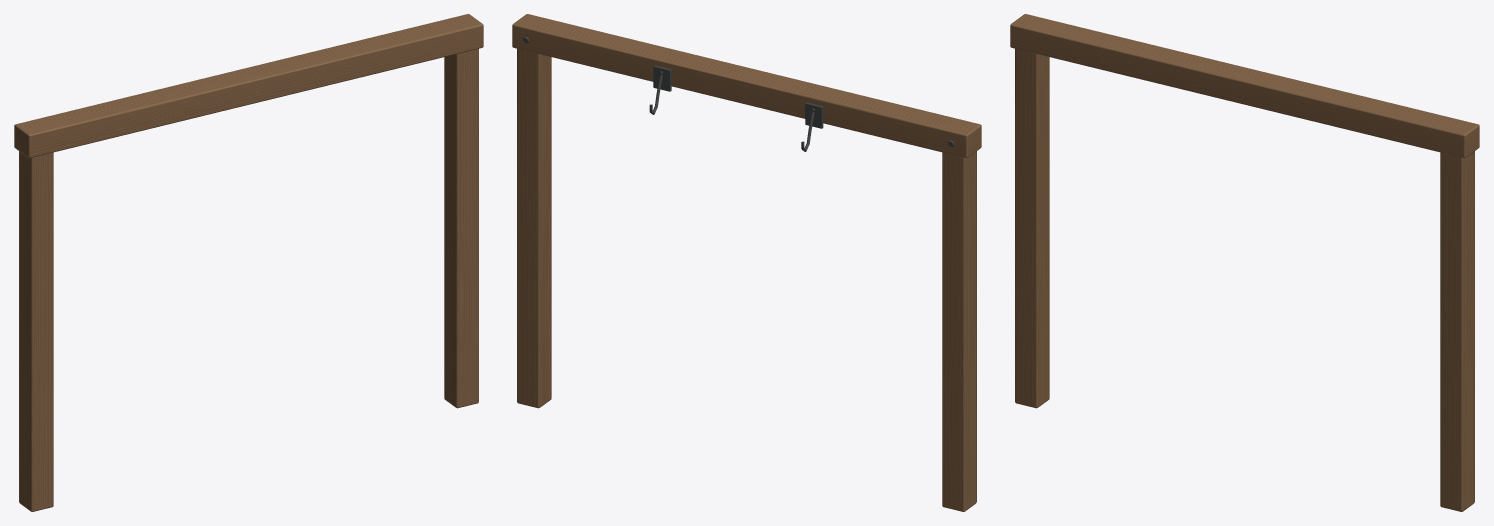
Rendered from Rack.fbx.
The picture shows the model from 3 angles, left to right: view 1: azimuth 30°, elevation 25°; view 2: azimuth 150°, elevation 25°; view 3: azimuth 330°, elevation 25°; orthographic projection.
Visible parts, largest first — view 1: Rack; view 2: Rack; view 3: Rack.
Boxes of the visible parts, box(x1,y1,x2,y2) form: Rack: box(14, 14, 483, 511); Rack: box(512, 14, 981, 511); Rack: box(1010, 14, 1479, 511).
Bounding box in the file's own units: 120 × 95.5 × 12.95.
1 material, 1 textured.
